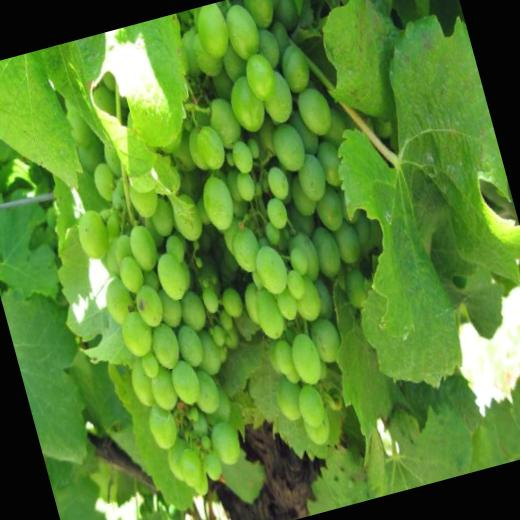Orange: (29, 0, 472, 510)
